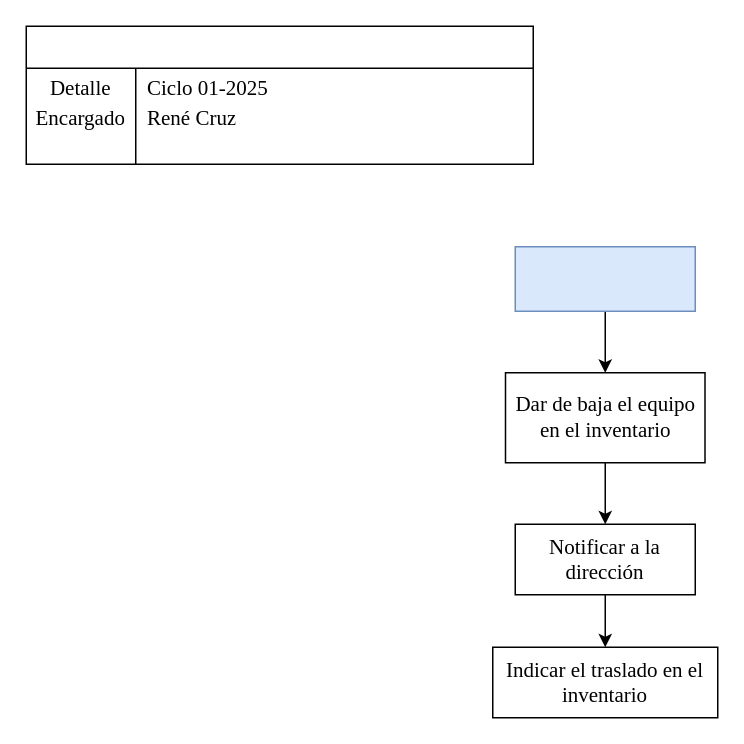
The diagram is 744 pixels wide and 744 high, and some of its shapes have lost their labels. The box of each missing label's shape, as (x1, y1, x2, y2) in pixels:
Actualización y revisión de inventario de forma mensual: (25, 25, 533, 164)
Retiro de equipo: (514, 245, 695, 311)
